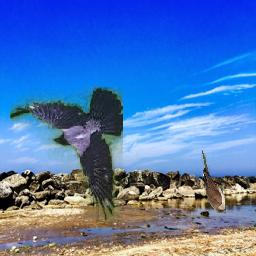Crow: (11, 87, 124, 223)
Cuckoo: (202, 149, 227, 214)
